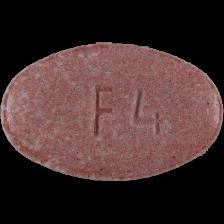55111-144: (0, 0, 224, 224)
